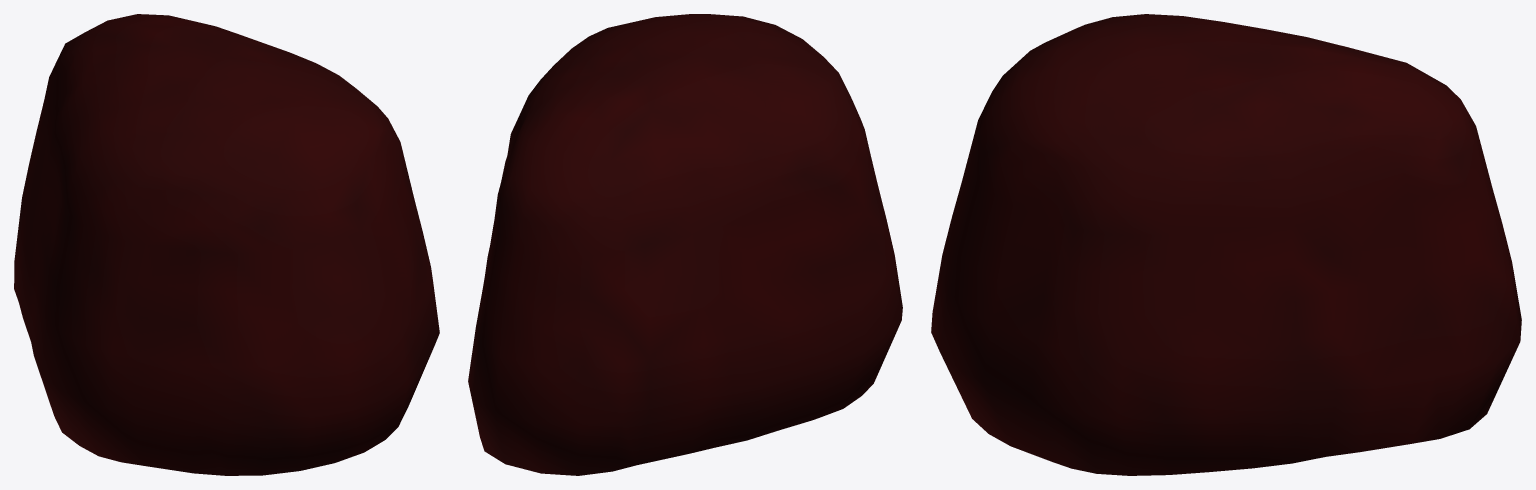
The model's file is geology-landforms-greenhilltiny_v1.fbx.
3 views of the same model, side by side, from view 1: azimuth 30°, elevation 25°; view 2: azimuth 150°, elevation 25°; view 3: azimuth 270°, elevation 25° (orthographic). The views are drawn at different scales.
Visible parts, largest first — view 1: GreenHillTiny_v1; view 2: GreenHillTiny_v1; view 3: GreenHillTiny_v1.
Part boxes in pixels (<box>): GreenHillTiny_v1: <box>14,14,439,475</box>; GreenHillTiny_v1: <box>468,14,902,475</box>; GreenHillTiny_v1: <box>931,14,1521,475</box>.
Size of the model in its own units: 18.04 by 15.3 by 23.57.
